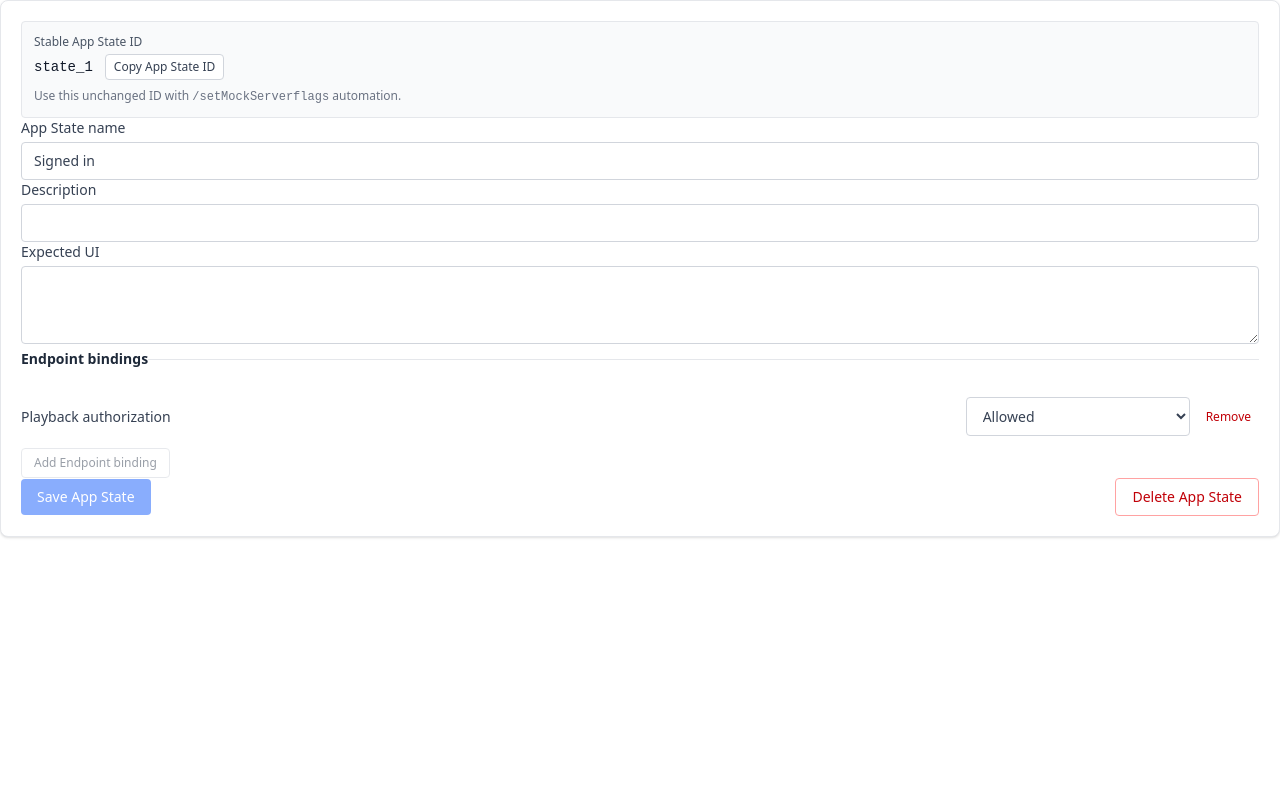
it: AppStateEditor › describes the active selection impact and external reference limit
Click the button "Delete App State".
click(1187, 497)  # box [1115,478,1259,516]
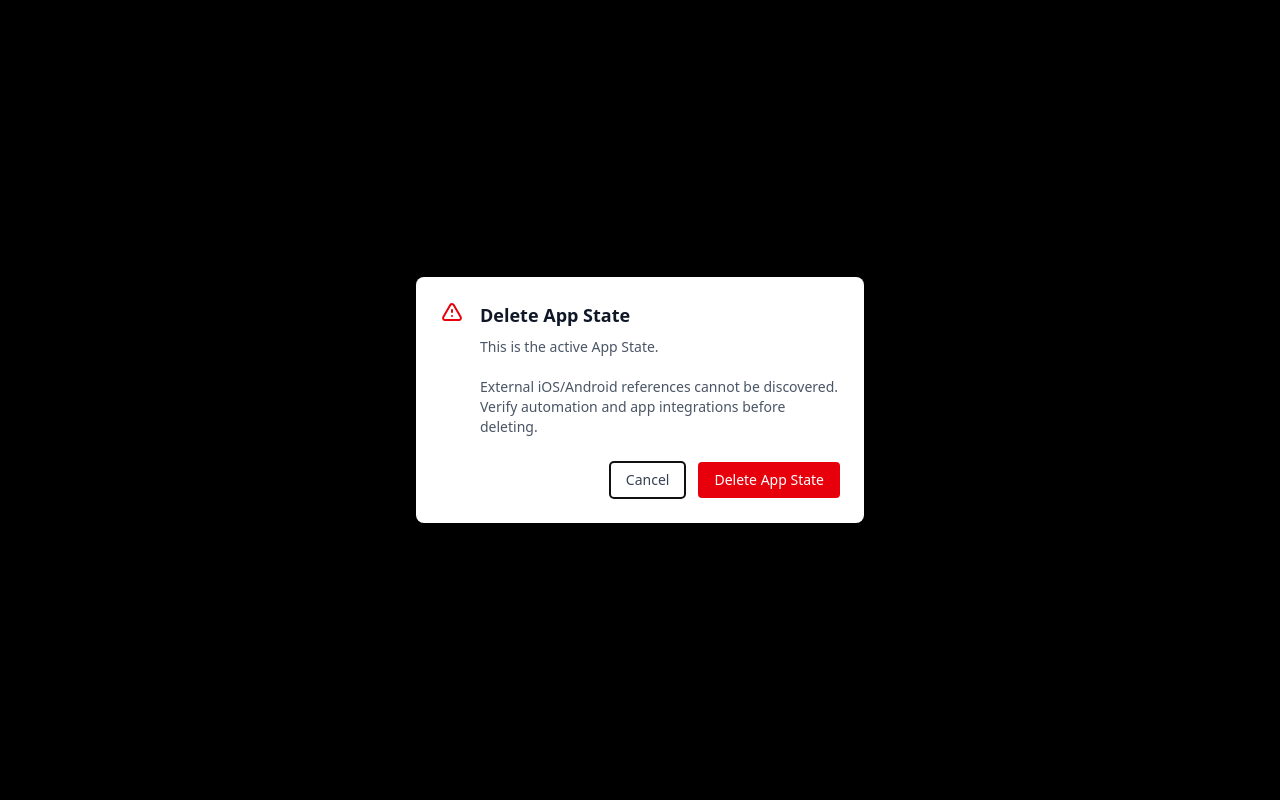
Expected: the text "External iOS/Android references cannot be discovered" is shown, [480,337,838,436]
